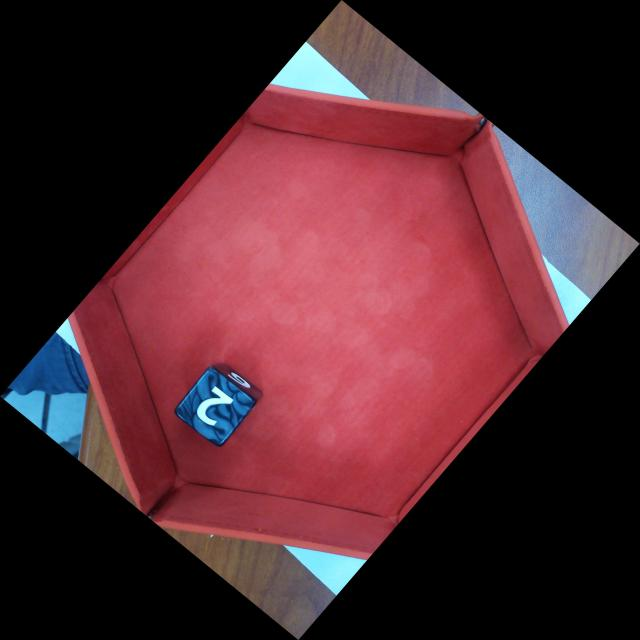dice: (177, 368, 255, 448)
